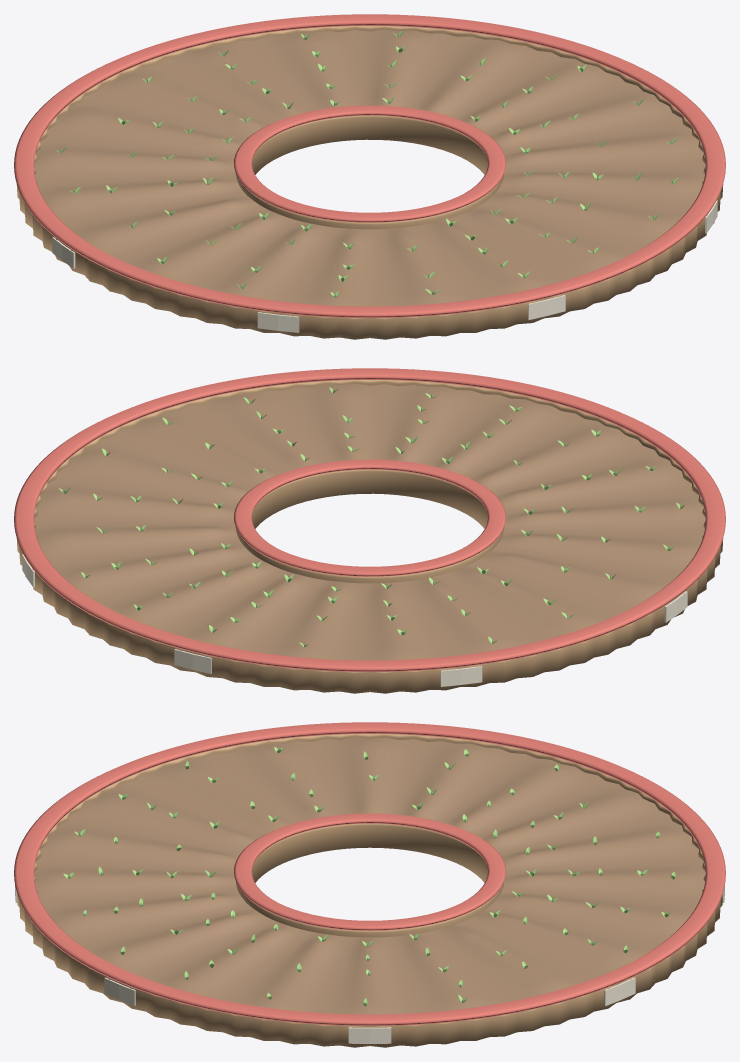
The model's file is TurningField.glb.
3 renders of one model, top to bottom at view 1: azimuth 30°, elevation 25°; view 2: azimuth 150°, elevation 25°; view 3: azimuth 270°, elevation 25°, orthographic.
Visible parts, largest first — view 1: FieldSoil, FieldLip, FieldWood, FieldSprouts, FieldMarks; view 2: FieldSoil, FieldLip, FieldWood, FieldSprouts, FieldMarks; view 3: FieldSoil, FieldLip, FieldWood, FieldSprouts, FieldMarks.
Part boxes in pixels (x1=…): FieldSoil: x1=34, y1=29, x2=705, y2=306; FieldLip: x1=14, y1=14, x2=725, y2=317; FieldWood: x1=16, y1=26, x2=723, y2=339; FieldSprouts: x1=55, y1=30, x2=679, y2=297; FieldMarks: x1=52, y1=200, x2=717, y2=332; FieldSoil: x1=34, y1=384, x2=705, y2=660; FieldLip: x1=14, y1=368, x2=725, y2=671; FieldWood: x1=16, y1=380, x2=723, y2=693; FieldSprouts: x1=59, y1=387, x2=684, y2=646; FieldMarks: x1=22, y1=554, x2=687, y2=686; FieldSoil: x1=34, y1=737, x2=705, y2=1014; FieldLip: x1=14, y1=722, x2=725, y2=1025; FieldWood: x1=17, y1=734, x2=722, y2=1047; FieldSprouts: x1=63, y1=747, x2=675, y2=1006; FieldMarks: x1=15, y1=885, x2=724, y2=1043.
Bounding box in the file's own units: 41.36 × 1.87 × 41.36.
